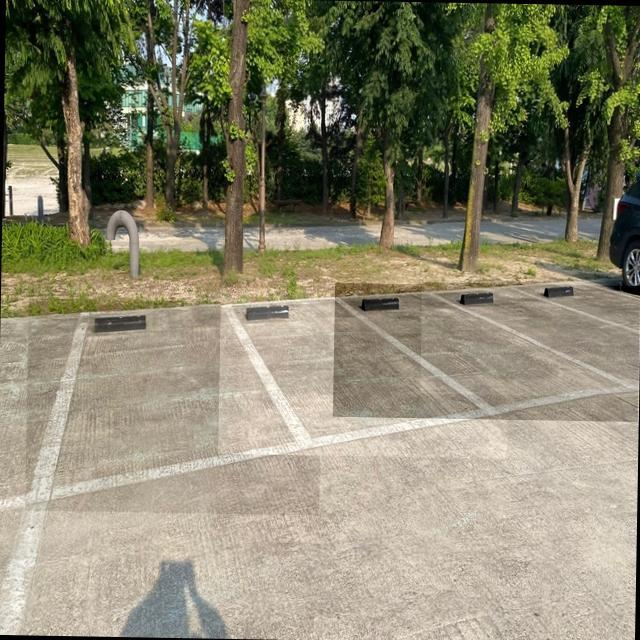empty: (25, 302, 320, 510), (221, 290, 507, 455), (335, 285, 638, 419), (423, 283, 639, 397)
